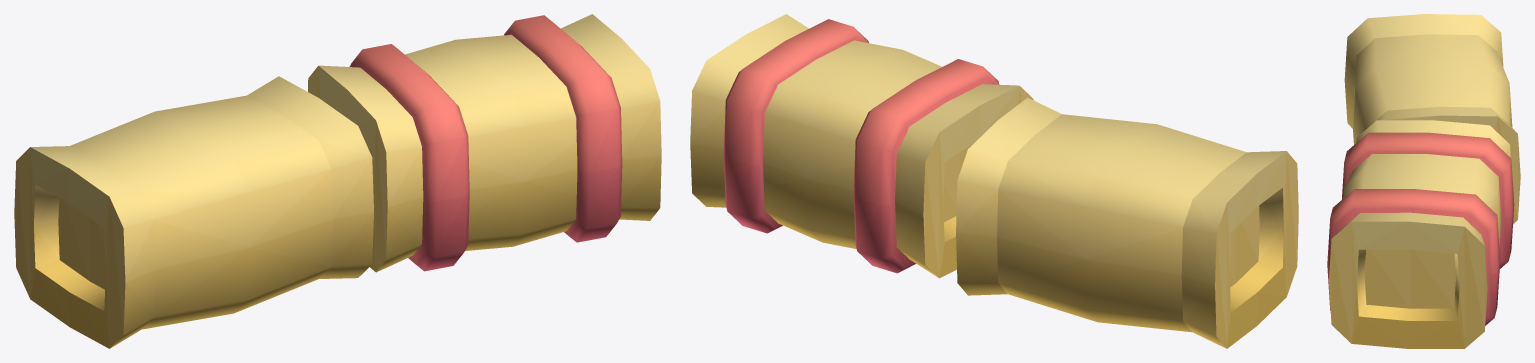
The model's file is kenney_graveyard_hay_bales.glb.
3 renders of one model, left to right at view 1: azimuth 30°, elevation 25°; view 2: azimuth 150°, elevation 25°; view 3: azimuth 270°, elevation 25°, orthographic. The views are drawn at different scales.
Parts seen in each view (by area): view 1: straw (×2), cloth; view 2: straw (×2), cloth; view 3: straw (×2), cloth.
Part boxes in pixels (box(x1,y1,x2,y2)): straw (×2): box(14, 14, 661, 348); cloth: box(349, 15, 622, 271); straw (×2): box(690, 14, 1298, 348); cloth: box(723, 19, 999, 273); straw (×2): box(1328, 14, 1520, 348); cloth: box(1327, 132, 1514, 325).
Size of the model in its own units: 1.3 by 0.3798 by 0.4871.
